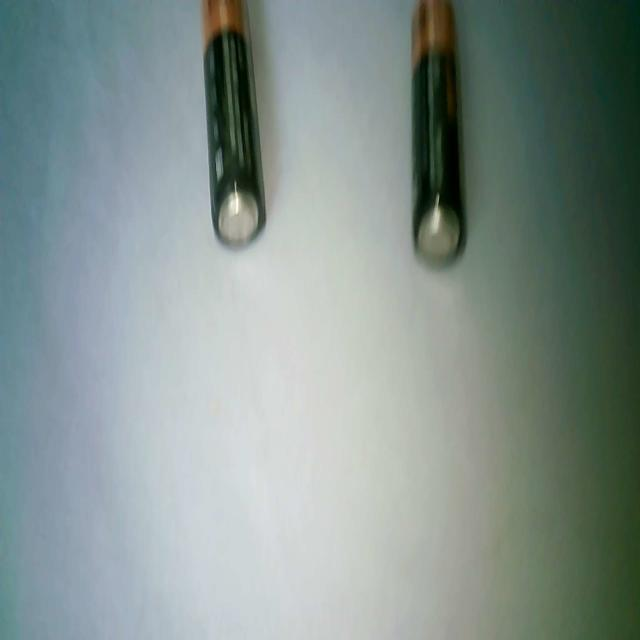AA: (200, 0, 266, 248), (409, 0, 466, 266)
